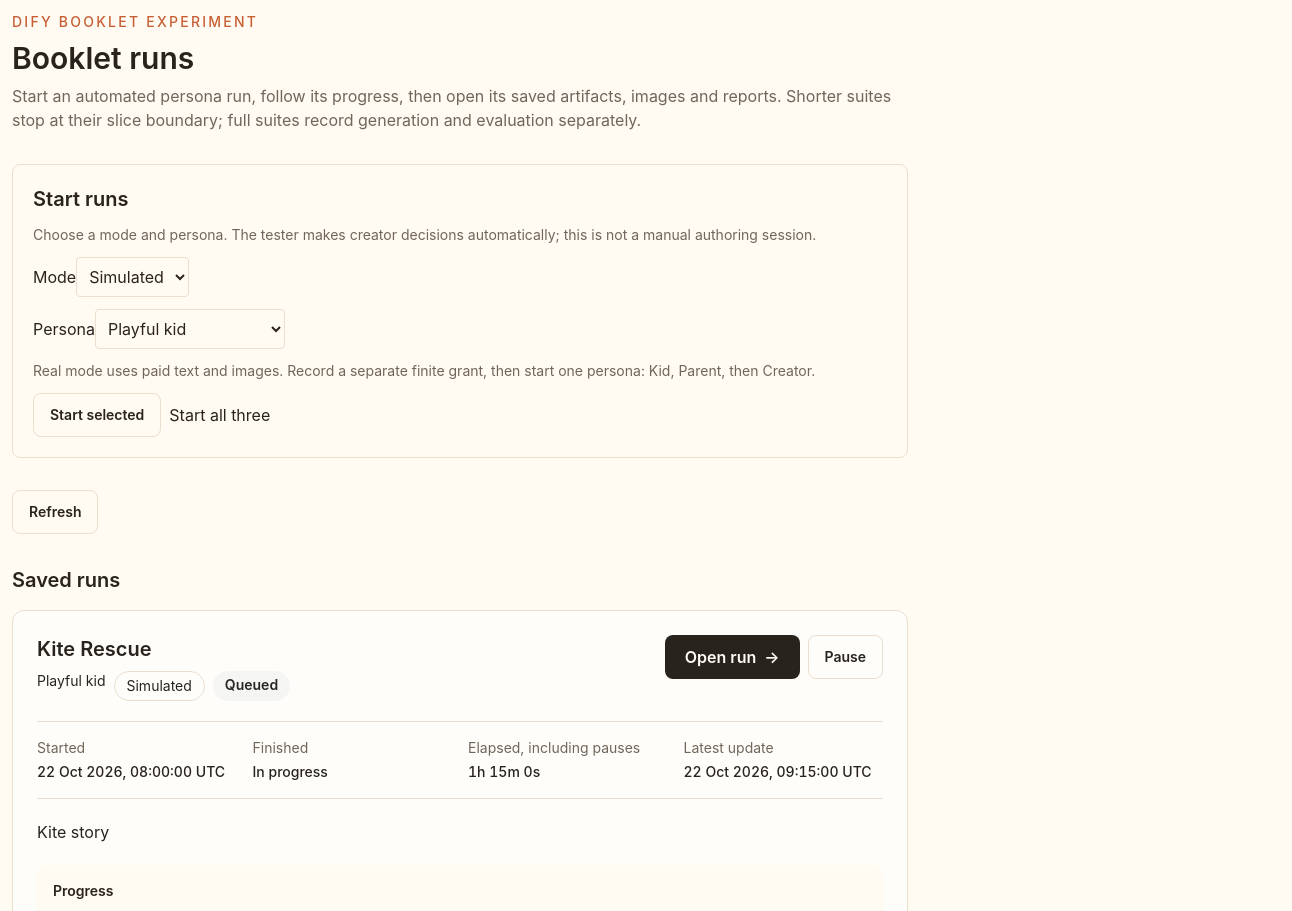
Test: booklet runner inspector › does not offer another grant when the saved-grant read fails
Check: the heading "Kite Rescue" is shown, box x1=37 y1=637 x2=152 y2=661
Select "Real" in the dropdown labelled "Mode" at (133, 277), box x1=76 y1=257 x2=189 y2=297
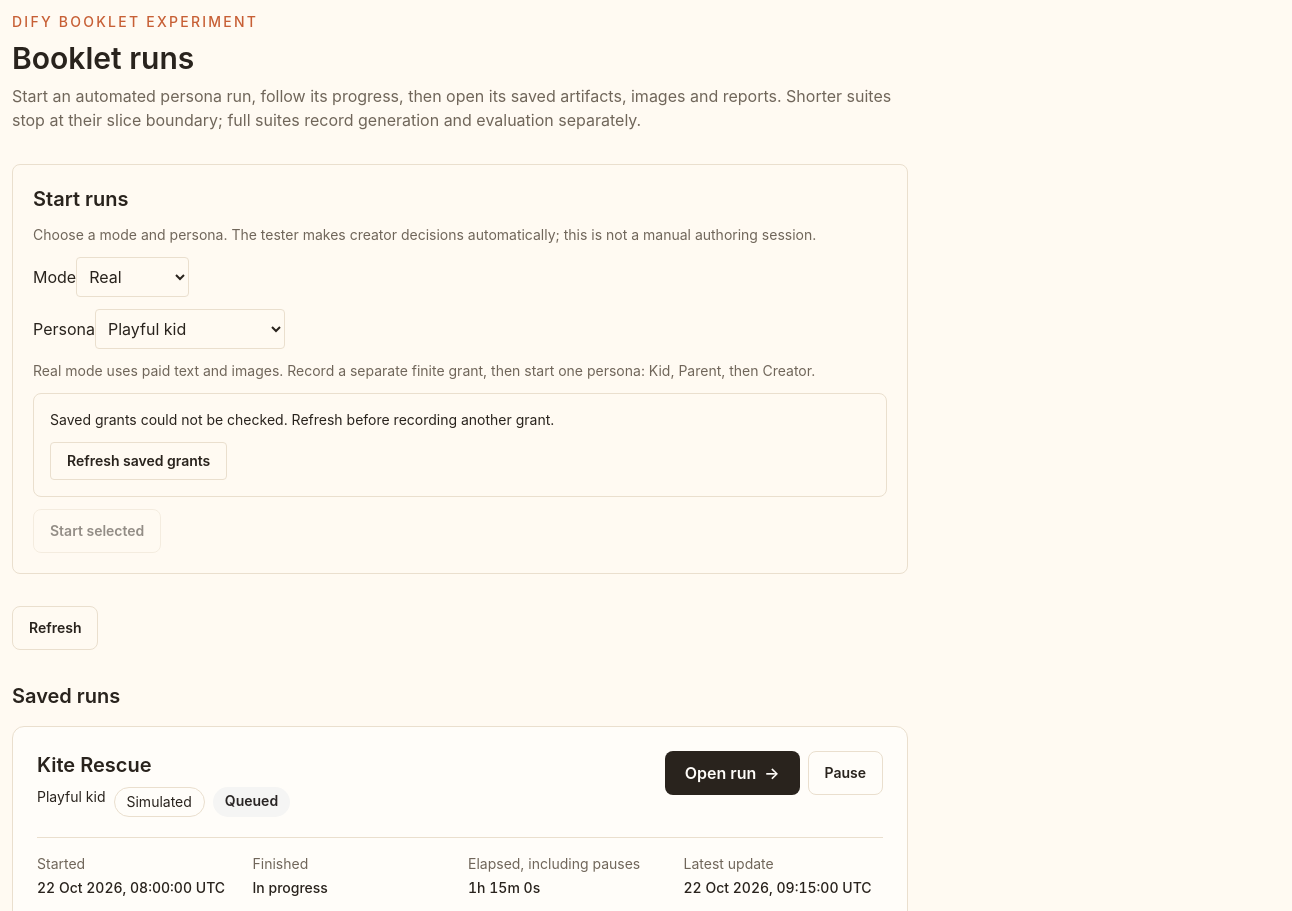
Check: the text "Saved grants could not be checked. Refresh before recording another grant." is shown, box x1=50 y1=411 x2=554 y2=428
Check: the button "Start selected" is disabled, box x1=33 y1=509 x2=161 y2=553
